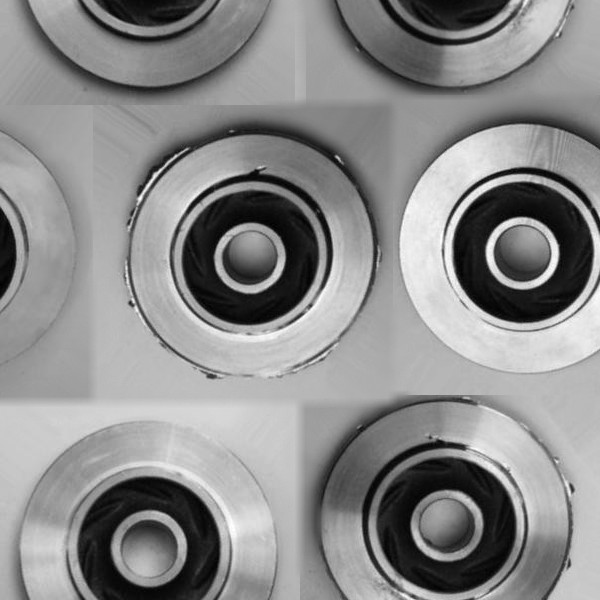pump_impeller: (111, 118, 389, 387), (306, 394, 588, 598), (397, 118, 600, 380), (6, 412, 287, 598)
